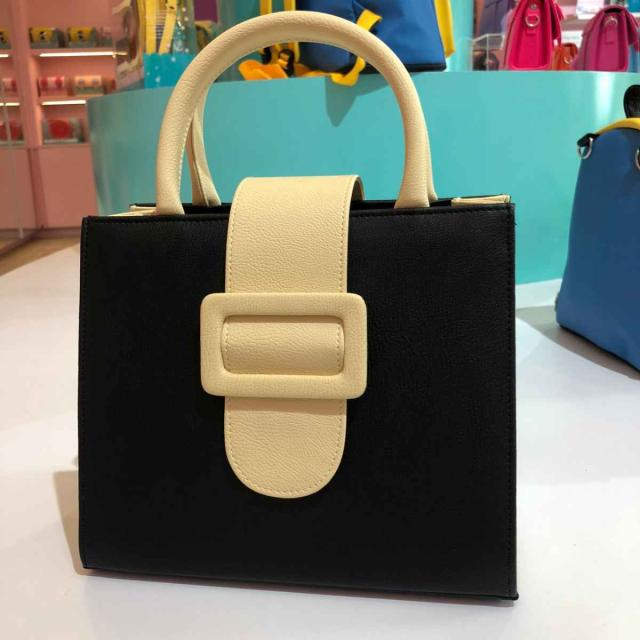Handbag: (74, 139, 520, 603)
